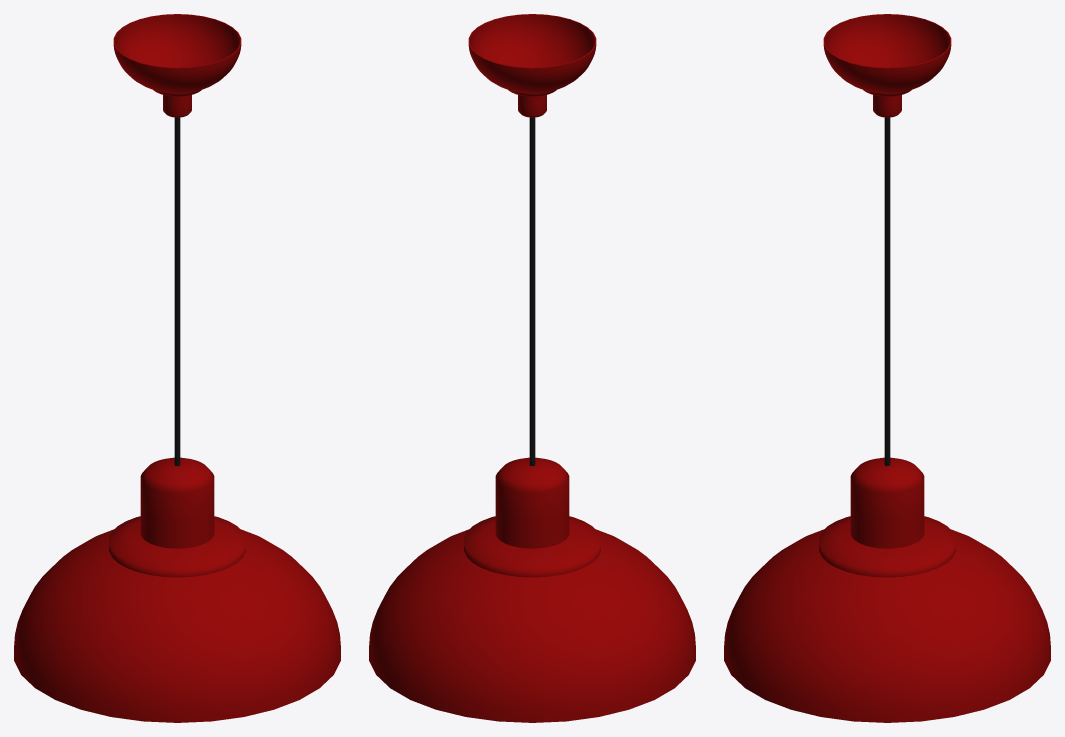
File: Diner_Light.fbx
3 views of the same model, side by side, from view 1: azimuth 30°, elevation 25°; view 2: azimuth 150°, elevation 25°; view 3: azimuth 270°, elevation 25° (orthographic).
Visible parts, largest first — view 1: pSphere8; view 2: pSphere8; view 3: pSphere8.
Boxes of the visible parts, bbox=[...] form: pSphere8: bbox=[14, 14, 340, 722]; pSphere8: bbox=[369, 14, 695, 722]; pSphere8: bbox=[724, 14, 1050, 722].
Size of the model in its own units: 4.72 by 9.71 by 4.69.
